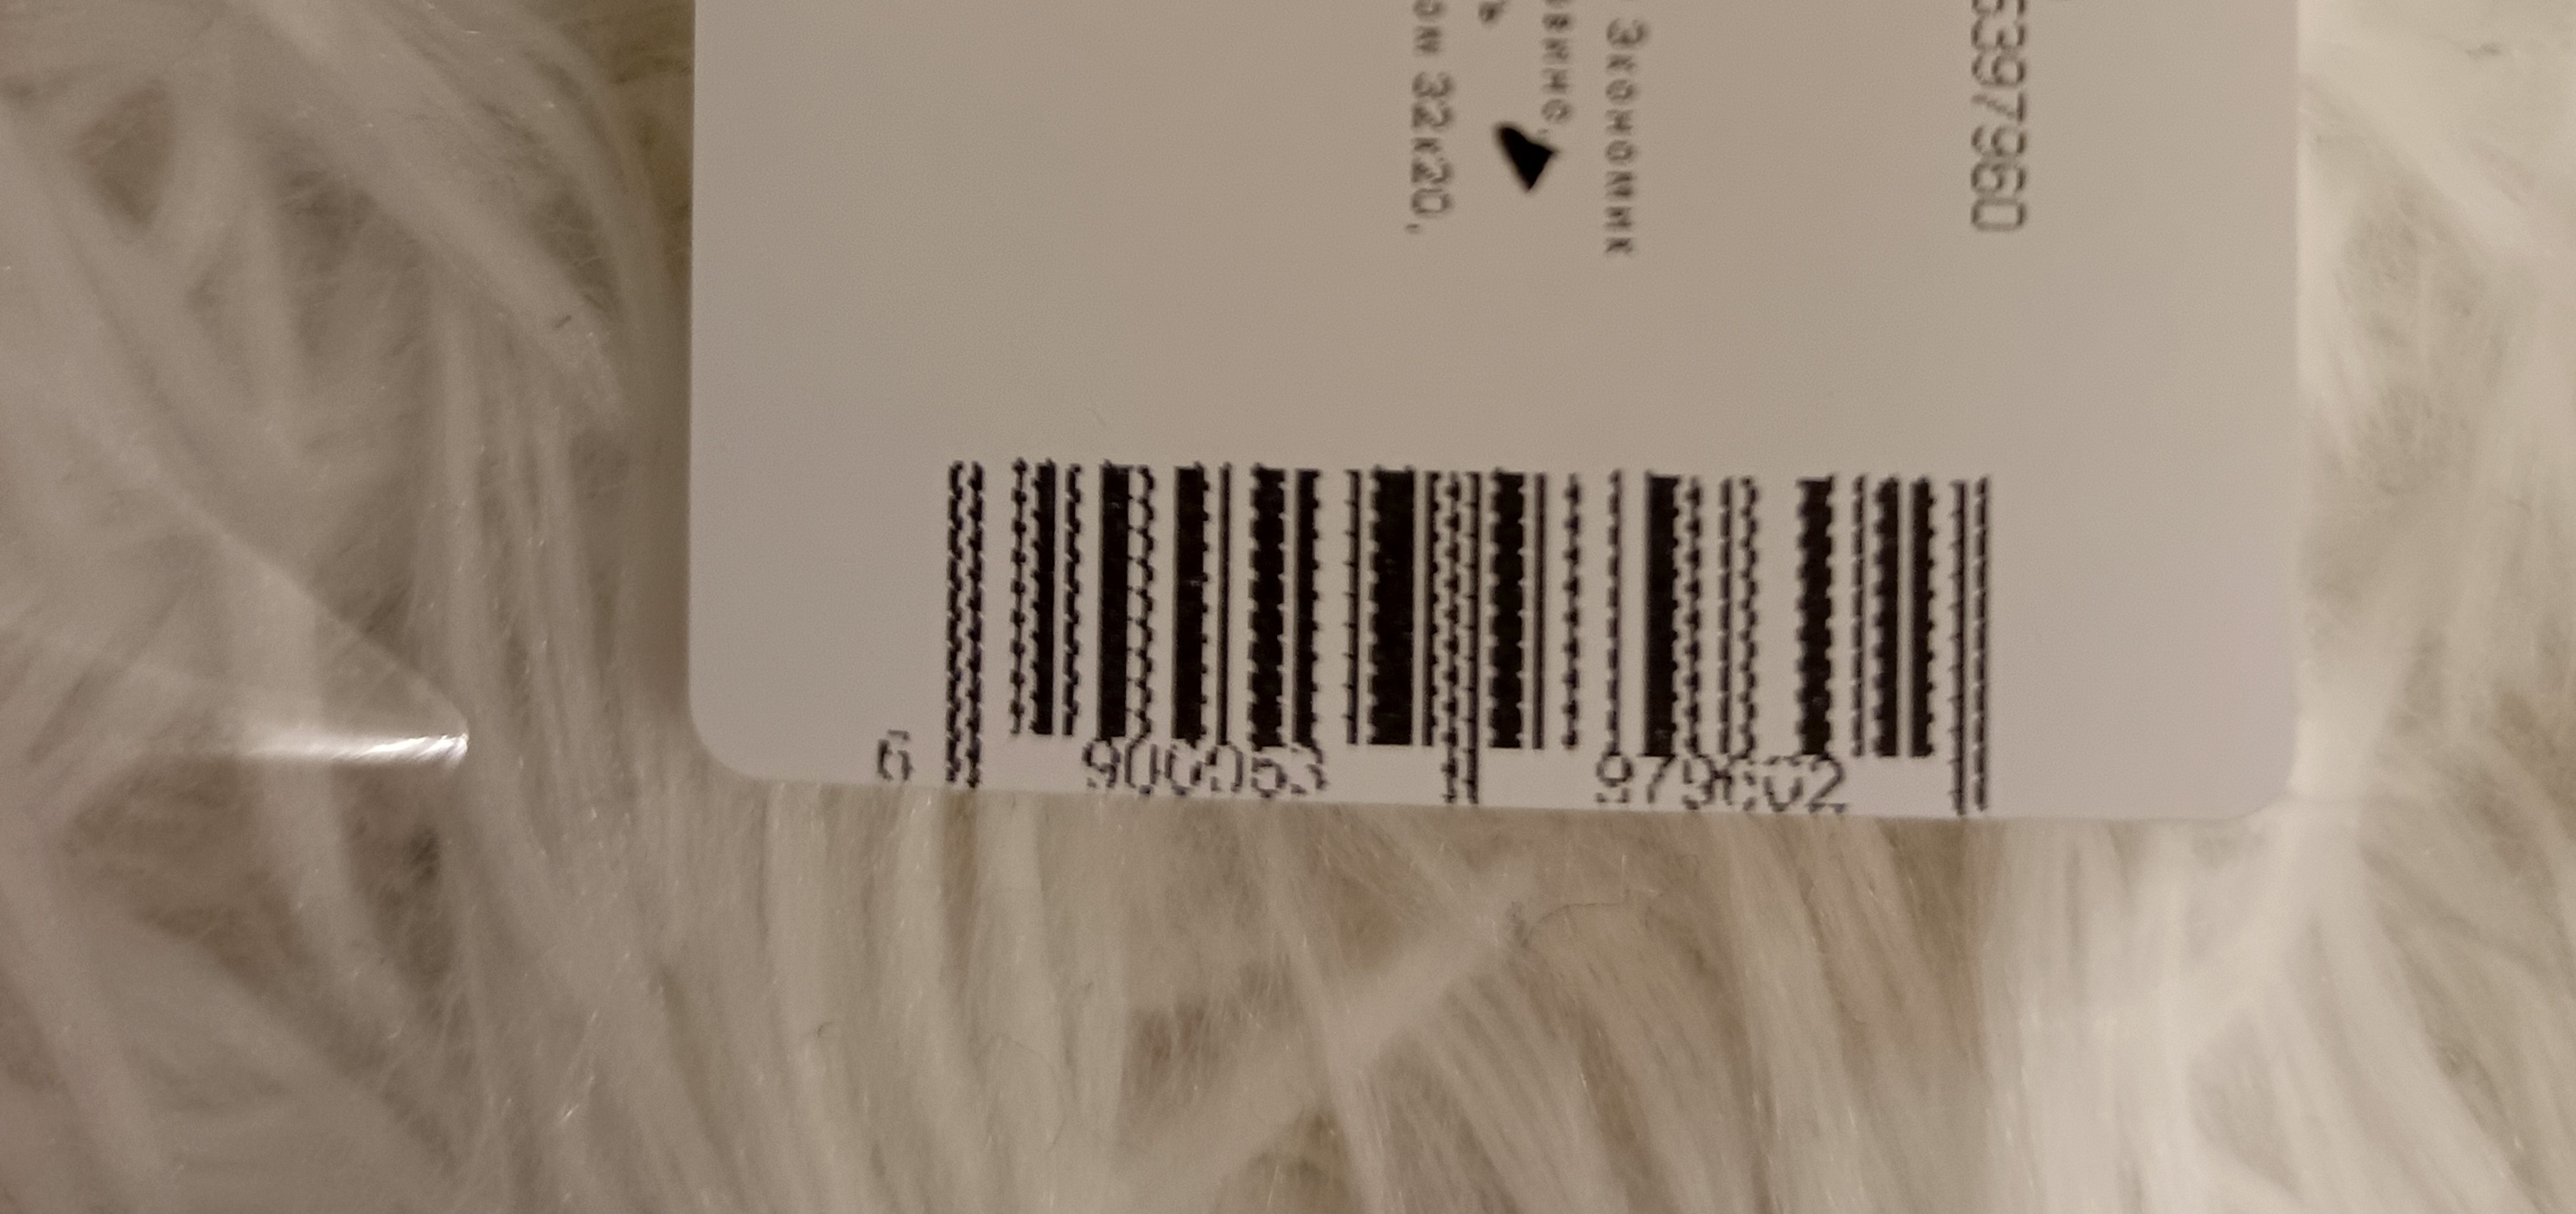1d: (941, 457, 2001, 777)
